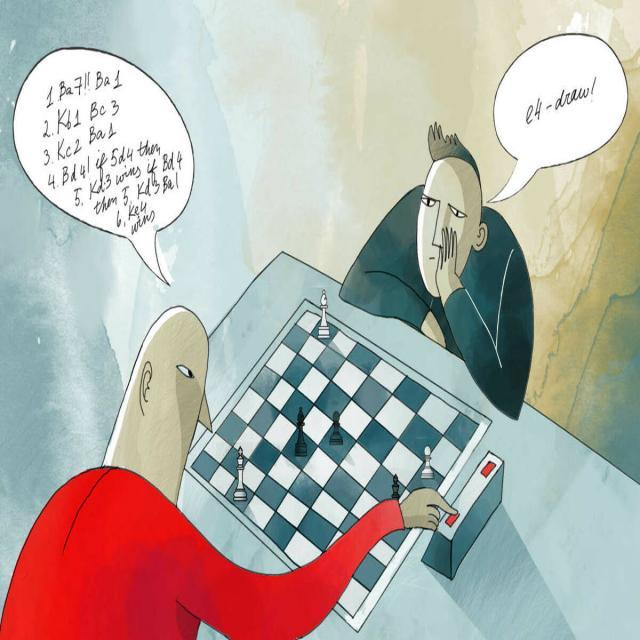chess-table-corners: (340, 597, 368, 635), (468, 411, 494, 443), (296, 292, 316, 326), (188, 456, 200, 473)
